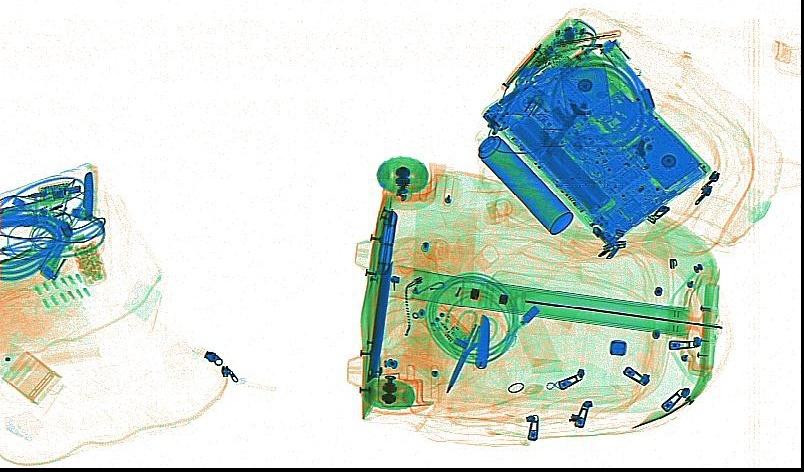knife: (367, 207, 401, 378), (501, 42, 544, 93), (551, 27, 622, 50), (472, 312, 491, 370), (82, 164, 97, 225)
pressure: (476, 130, 575, 237)
scissors: (445, 307, 497, 393)
